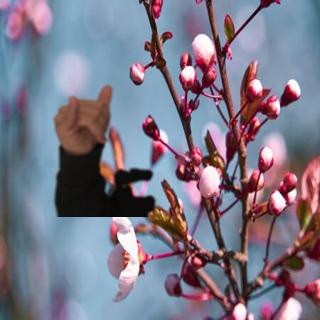HAVE: (51, 82, 127, 167)
